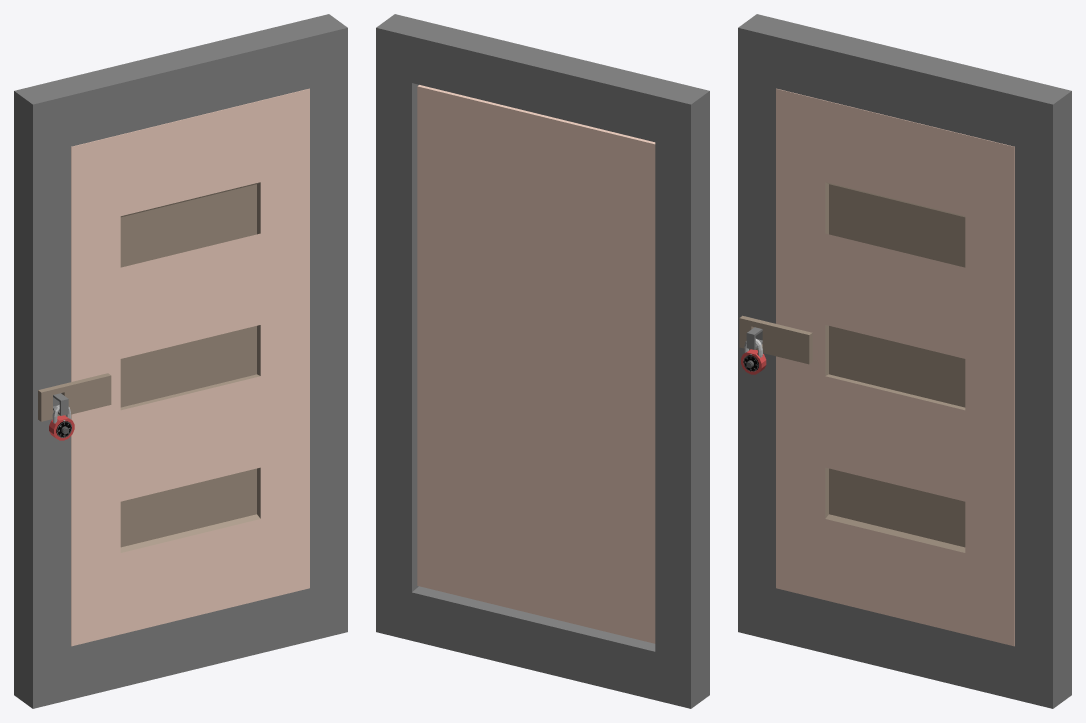
File: Door and Lock.fbx
3 renders of one model, left to right at view 1: azimuth 30°, elevation 25°; view 2: azimuth 150°, elevation 25°; view 3: azimuth 330°, elevation 25°, orthographic.
Parts seen in each view (by area): view 1: Door, Frame; view 2: Door, Frame; view 3: Door, Frame.
Boxes of the visible parts, x1,y1,x2,y2 form: Door: [38, 88, 309, 646]; Frame: [14, 14, 347, 708]; Door: [417, 85, 655, 643]; Frame: [376, 14, 709, 708]; Door: [739, 88, 1014, 646]; Frame: [738, 14, 1071, 708].
Size of the model in its own units: 396 by 726 by 65.54.
